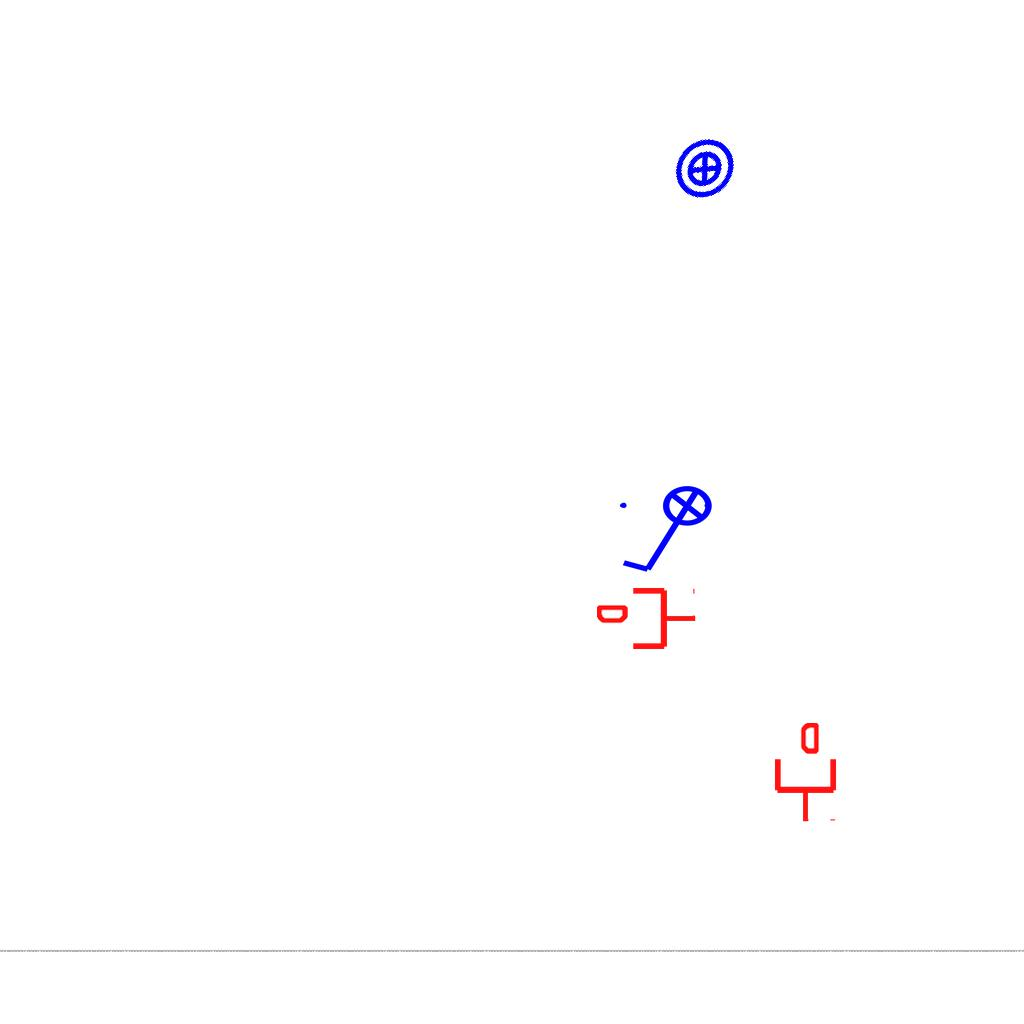Ausschalter_beleuchtet: (614, 484, 726, 580)
Datenanschluss_einfach: (771, 723, 840, 823), (597, 584, 697, 653)
Taster_beleuchtet: (658, 122, 752, 216)
